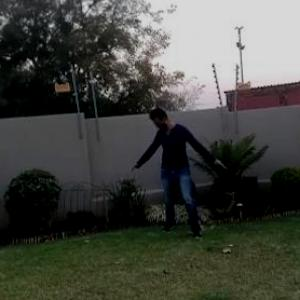land: (121, 102, 230, 245)
